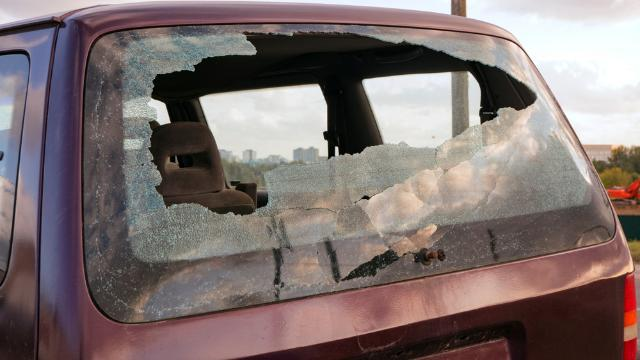glass shatter: (83, 23, 617, 325)
